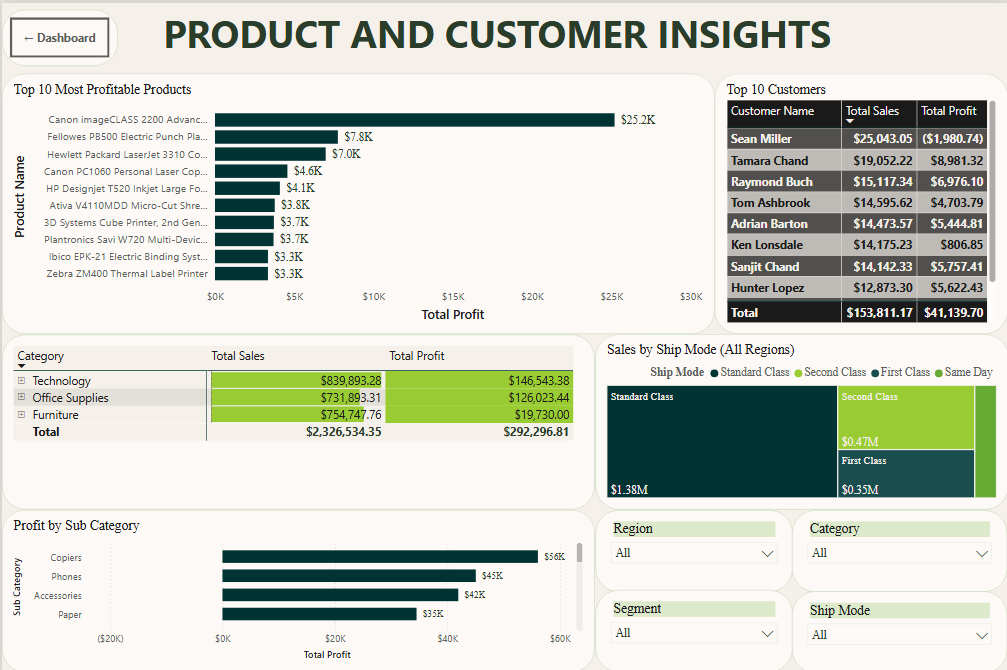

Layout of this report page (visuals, bound fields, positions):
{"tool":"powerbi","page":{"name":"Page 2","canvas":[1280,850],"ordinal":1},"visuals":[{"type":"clusteredBarChart","title":"Top 10 Most Profitable Products","fields":{"Category":["Sheet1.product_name"],"Y":["Sheet1.Total Profit"]},"box":[0,90,906.7,331.7],"z":0},{"type":"textbox","box":[0,0,1260,90],"z":1000},{"type":"tableEx","title":"Top 10 Customers","fields":{"Values":["Sheet1.customer_name","Sheet1.Total Sales","Sheet1.Total Profit"]},"box":[906.7,90,373.3,331.7],"z":2000},{"type":"clusteredBarChart","title":"Profit by Sub Category","fields":{"Y":["Sheet1.Total Profit"],"Category":["Sheet1.sub_category"]},"box":[0,644.3,754.3,207.1],"z":3000},{"type":"treemap","fields":{"Values":["Sheet1.Total Sales"],"Group":["Sheet1.ship_mode"]},"box":[754.3,421.4,525.7,222.9],"z":4000},{"type":"pivotTable","fields":{"Rows":["Sheet1.category","Sheet1.sub_category","Sheet1.product_name"],"Values":["Sheet1.Total Sales","Sheet1.Total Profit"]},"box":[0,421.4,754.3,222.9],"z":5000},{"type":"slicer","fields":{"Values":["Sheet1.region"]},"box":[754.3,644.3,251.4,104.3],"z":6000},{"type":"slicer","fields":{"Values":["Sheet1.segment"]},"box":[754.3,747.1,251.4,104.3],"z":7000},{"type":"slicer","fields":{"Values":["Sheet1.category"]},"box":[1005.7,644.3,274.3,104.3],"z":8000},{"type":"slicer","fields":{"Values":["Sheet1.ship_mode"]},"box":[1005.7,748.6,274.3,104.3],"z":9000},{"type":"actionButton","box":[0,8.6,147.1,71.4],"z":10000}]}

Visuals, with their boxes in screenshot pixels (x1, y1, x2, y2), scaled from the page's 1280x850 canvas onto the 1007x670 screenshot:
"Top 10 Most Profitable Products" clusteredBarChart: BBox(0, 71, 713, 332)
textbox: BBox(0, 0, 991, 71)
"Top 10 Customers" tableEx: BBox(713, 71, 1006, 332)
"Profit by Sub Category" clusteredBarChart: BBox(0, 508, 593, 669)
treemap - Sheet1.Total Sales x Sheet1.ship_mode: BBox(593, 332, 1006, 508)
pivotTable - Sheet1.category x Sheet1.sub_category: BBox(0, 332, 593, 508)
slicer - Sheet1.region: BBox(593, 508, 791, 590)
slicer - Sheet1.segment: BBox(593, 589, 791, 669)
slicer - Sheet1.category: BBox(791, 508, 1006, 590)
slicer - Sheet1.ship_mode: BBox(791, 590, 1006, 669)
actionButton: BBox(0, 7, 116, 63)
